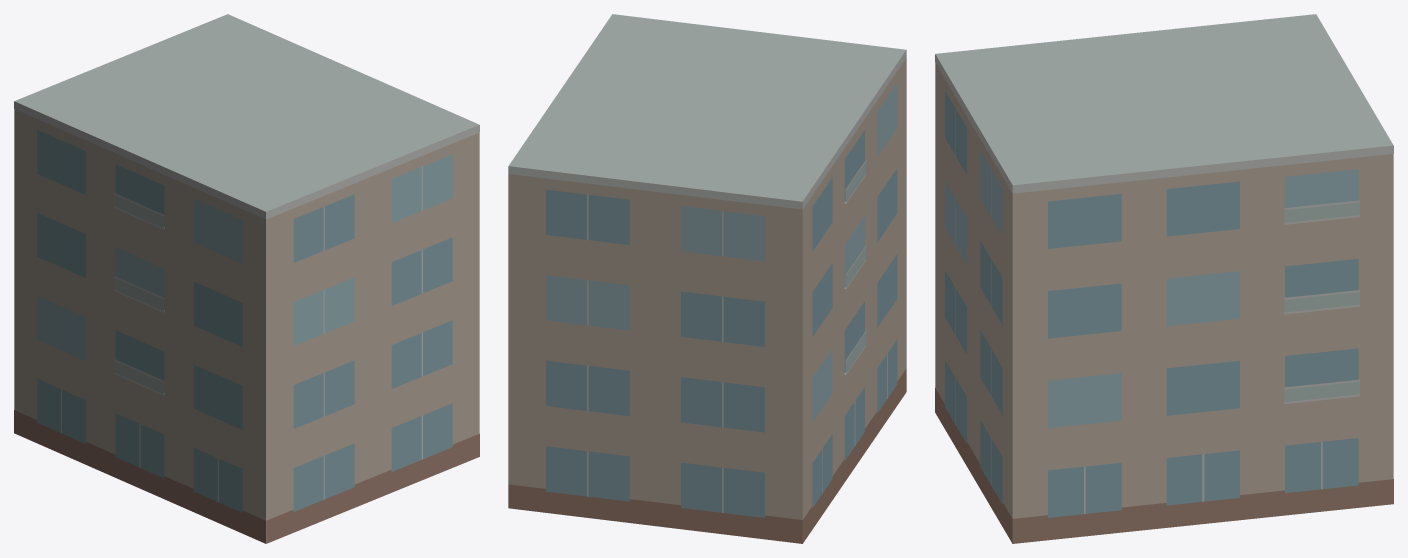
Rendered from survey-upis-32716720.glb.
3 views of the same model, side by side, from view 1: azimuth 30°, elevation 25°; view 2: azimuth 150°, elevation 25°; view 3: azimuth 270°, elevation 25° (orthographic). The views are drawn at different scales.
Parts seen in each view (by area): view 1: survey-upis-32716720.tmp; view 2: survey-upis-32716720.tmp; view 3: survey-upis-32716720.tmp.
Part boxes in pixels (bbox=[...]): survey-upis-32716720.tmp: bbox=[14, 14, 479, 543]; survey-upis-32716720.tmp: bbox=[508, 14, 906, 543]; survey-upis-32716720.tmp: bbox=[935, 14, 1393, 543].
Bounding box in the file's own units: 10.87 × 10.6 × 12.3.
